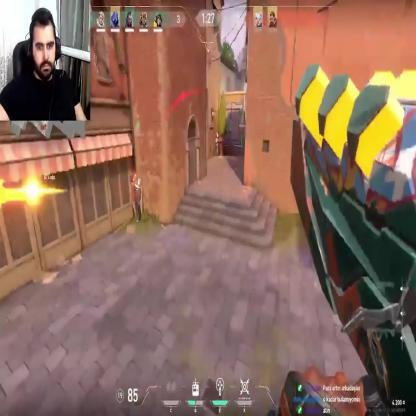enemy: (130, 172, 142, 222), (214, 132, 219, 156)
enemy_head: (133, 172, 138, 182), (216, 133, 219, 139)
